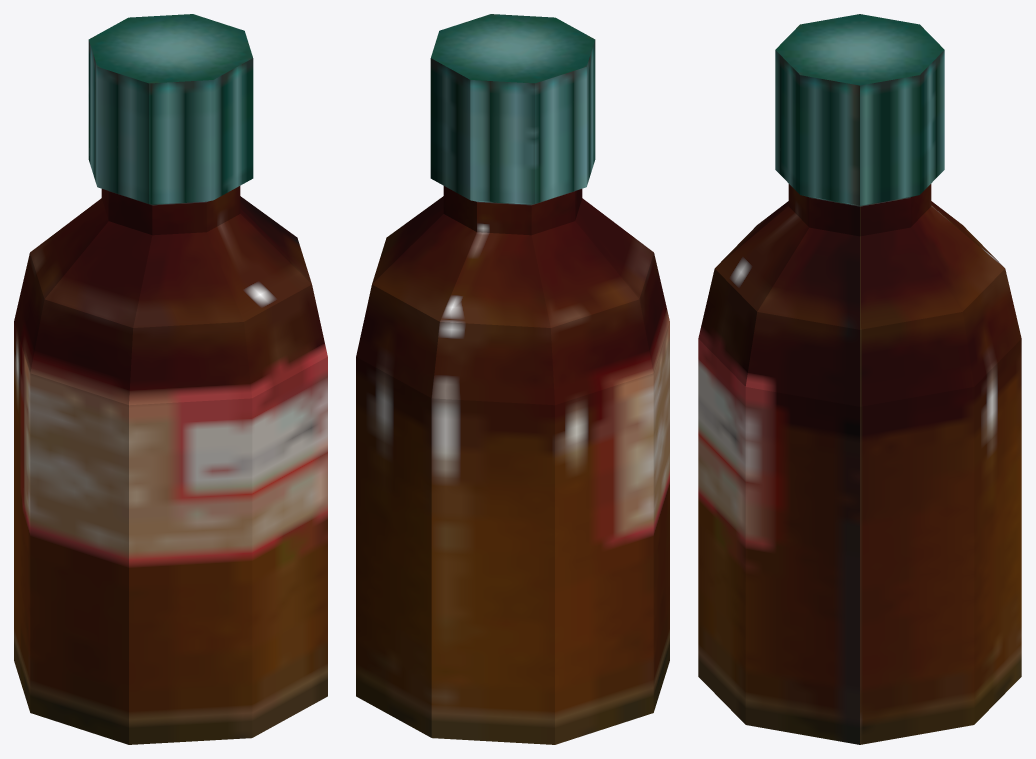
File: jar_small_4.fbx
3 views of the same model, side by side, from view 1: azimuth 30°, elevation 25°; view 2: azimuth 150°, elevation 25°; view 3: azimuth 270°, elevation 25° (orthographic).
Parts seen in each view (by area): view 1: mesh_0; view 2: mesh_0; view 3: mesh_0.
Boxes of the visible parts, x1,y1,x2,y2 form: mesh_0: [14, 14, 327, 744]; mesh_0: [356, 14, 669, 744]; mesh_0: [698, 14, 1021, 744].
Size of the model in its own units: 4.67 by 10 by 4.67.
Materials: 1 (1 with a texture image).
